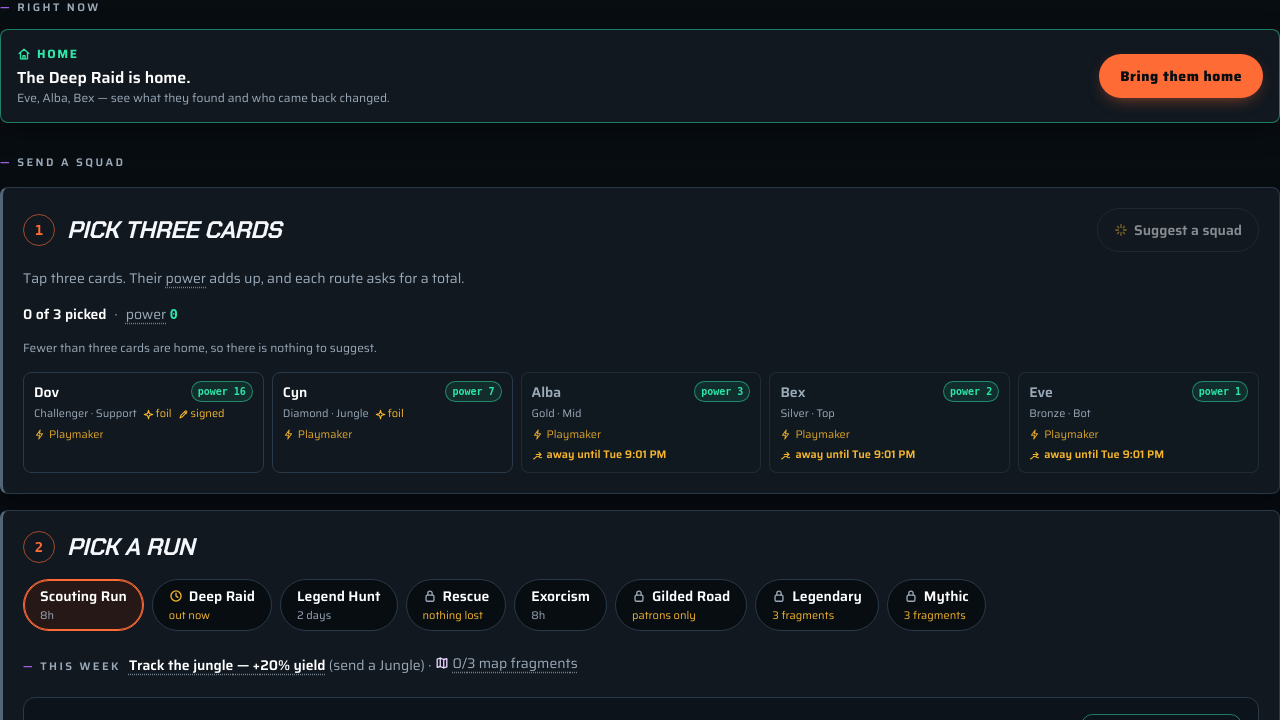
Test case: ExpeditionBoard — the claim ceremony › stays quiet about a mark when none dropped
Click the button with aria-label "Claim the Deep Raid": coordinates (1181, 76) [1099,54,1263,98]
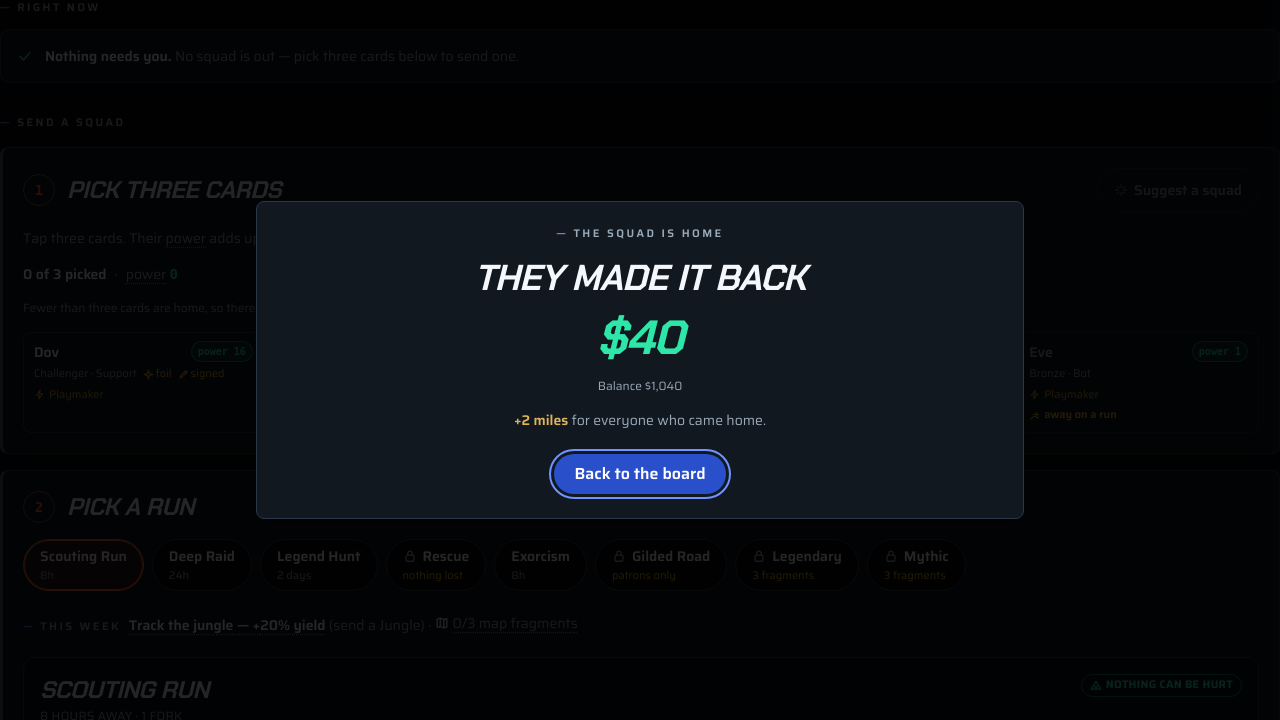
Expected: the dialog with test id "expedition-ceremony" shows "$40"
